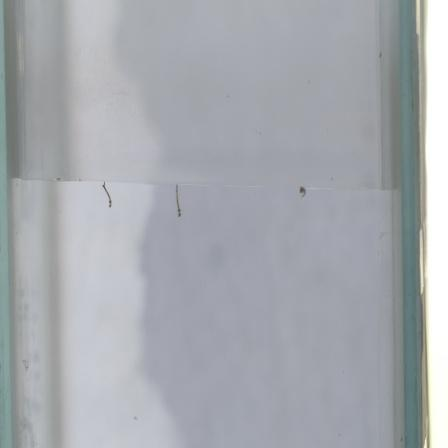Jentik-Nyamuk: (168, 183, 187, 221), (94, 182, 117, 210)
